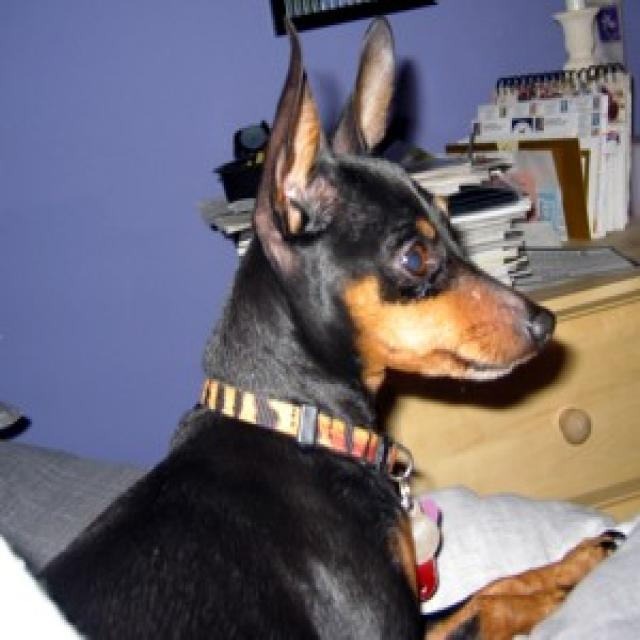dog-miniature_pinscher: (30, 5, 629, 635)
